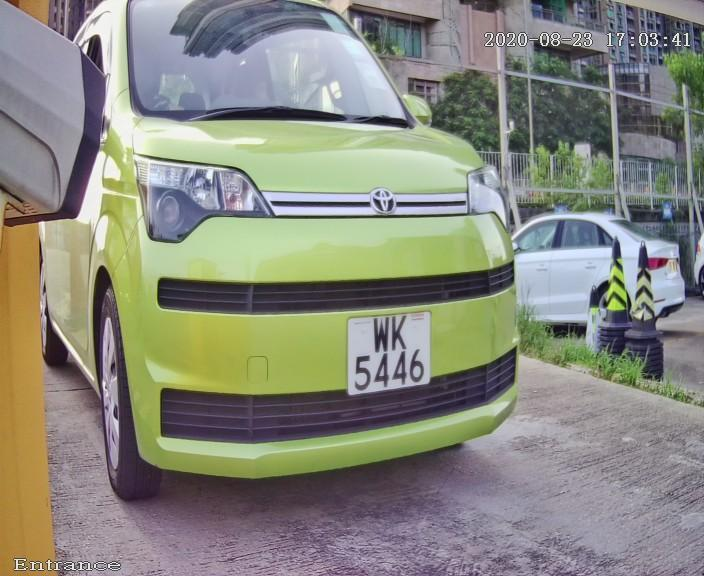Car: (26, 3, 591, 517)
License Plate: (334, 299, 444, 404)
